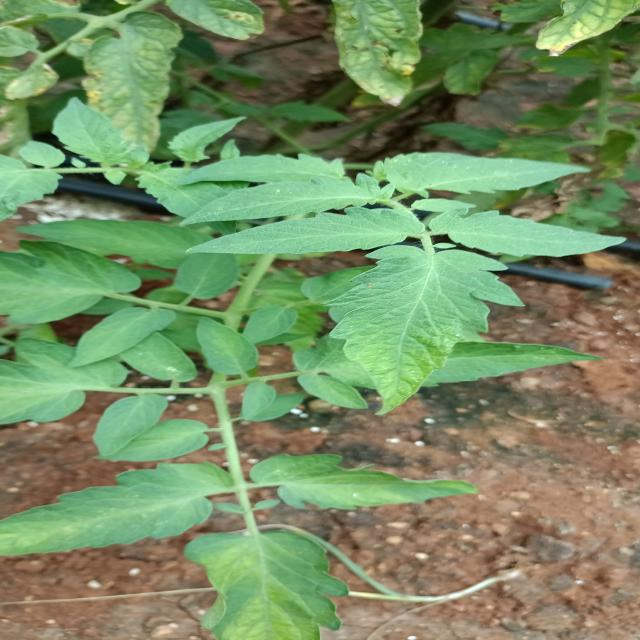Healthy Leaf: (324, 244, 485, 414), (0, 458, 236, 553), (252, 449, 500, 525), (164, 210, 412, 260), (424, 209, 629, 256), (375, 152, 594, 195)
